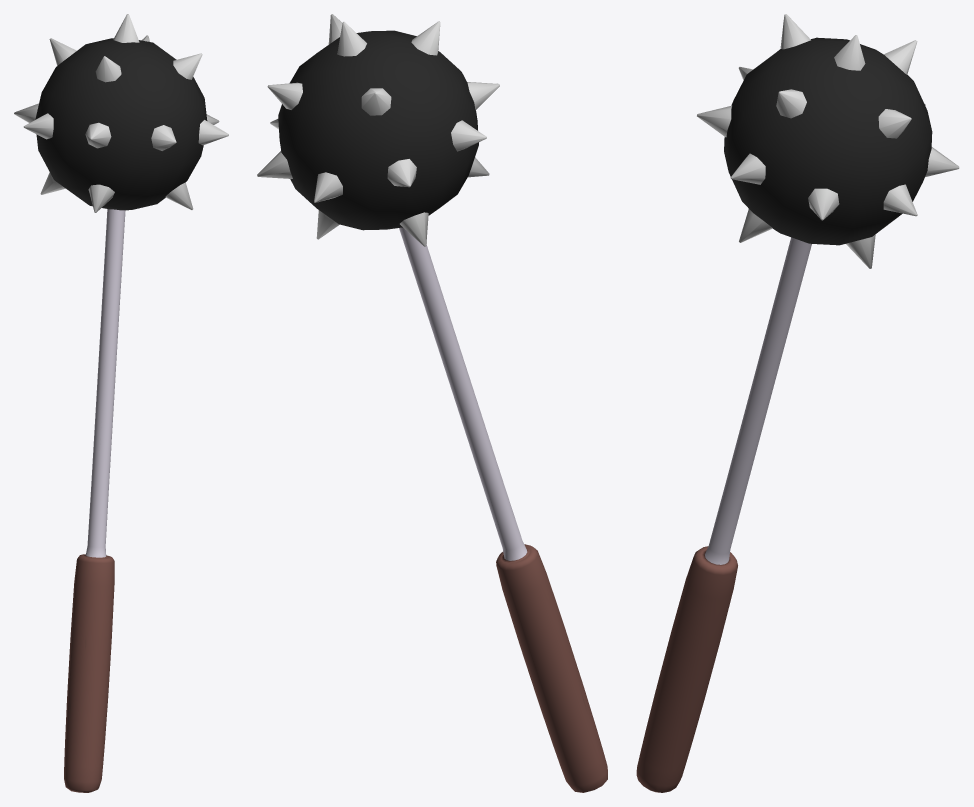
File: maza001.fbx
The picture shows the model from 3 angles, left to right: view 1: azimuth 30°, elevation 25°; view 2: azimuth 150°, elevation 25°; view 3: azimuth 270°, elevation 25°; orthographic projection. The views are drawn at different scales.
Visible parts, largest first — view 1: Roundcube.004, Cylinder, Cylinder.012, Cylinder.003, Cylinder.006, Cylinder.014, Cylinder.010, Cylinder.016, Cylinder.017, Cylinder.001, Cylinder.008; view 2: Roundcube.004, Cylinder, Cylinder.007, Cylinder.003, Cylinder.018, Cylinder.005, Cylinder.001, Cylinder.013, Cylinder.016; view 3: Roundcube.004, Cylinder, Cylinder.004, Cylinder.011, Cylinder.017, Cylinder.010, Cylinder.001, Cylinder.013, Cylinder.006, Cylinder.016, Cylinder.007.
Part boxes in pixels (x1=…): Roundcube.004: x1=35, y1=38, x2=207, y2=210; Cylinder: x1=64, y1=209, x2=125, y2=792; Cylinder.012: x1=85, y1=122, x2=111, y2=148; Cylinder.003: x1=23, y1=113, x2=53, y2=139; Cylinder.006: x1=151, y1=125, x2=176, y2=150; Cylinder.014: x1=88, y1=184, x2=114, y2=212; Cylinder.010: x1=173, y1=53, x2=202, y2=79; Cylinder.016: x1=95, y1=56, x2=121, y2=82; Cylinder.017: x1=198, y1=120, x2=228, y2=145; Cylinder.001: x1=113, y1=14, x2=139, y2=42; Cylinder.008: x1=165, y1=182, x2=193, y2=209; Roundcube.004: x1=278, y1=30, x2=478, y2=230; Cylinder: x1=399, y1=227, x2=607, y2=792; Cylinder.007: x1=361, y1=88, x2=391, y2=115; Cylinder.003: x1=451, y1=120, x2=486, y2=151; Cylinder.018: x1=387, y1=159, x2=416, y2=187; Cylinder.005: x1=314, y1=172, x2=342, y2=202; Cylinder.001: x1=337, y1=22, x2=366, y2=56; Cylinder.013: x1=267, y1=82, x2=302, y2=109; Cylinder.016: x1=411, y1=21, x2=440, y2=55; Roundcube.004: x1=724, y1=37, x2=932, y2=245; Cylinder: x1=636, y1=237, x2=811, y2=792; Cylinder.004: x1=808, y1=188, x2=839, y2=220; Cylinder.011: x1=883, y1=184, x2=917, y2=216; Cylinder.017: x1=730, y1=153, x2=765, y2=184; Cylinder.010: x1=776, y1=89, x2=806, y2=118; Cylinder.001: x1=834, y1=35, x2=865, y2=70; Cylinder.013: x1=878, y1=109, x2=911, y2=138; Cylinder.006: x1=697, y1=105, x2=731, y2=137; Cylinder.016: x1=780, y1=14, x2=810, y2=49; Cylinder.007: x1=884, y1=40, x2=917, y2=74.
Size of the model in its own units: 175 by 522 by 185.
